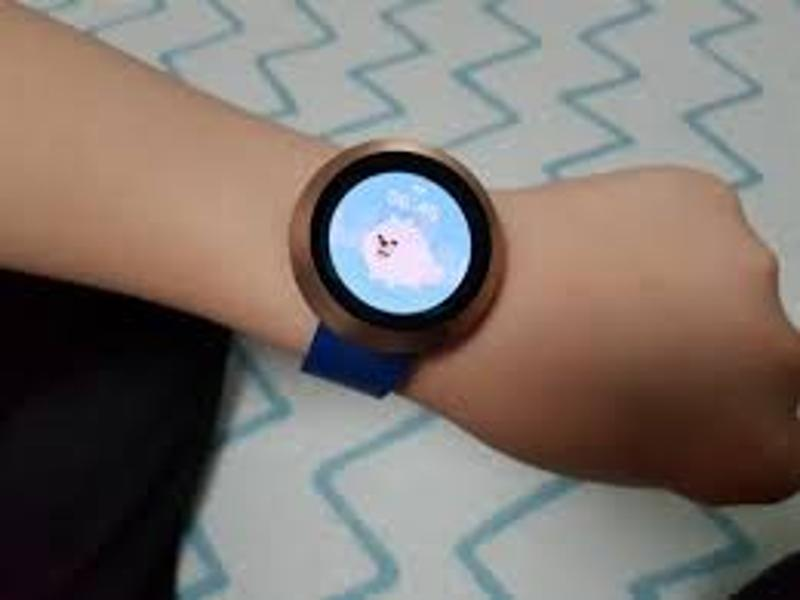watch: (288, 130, 505, 399)
